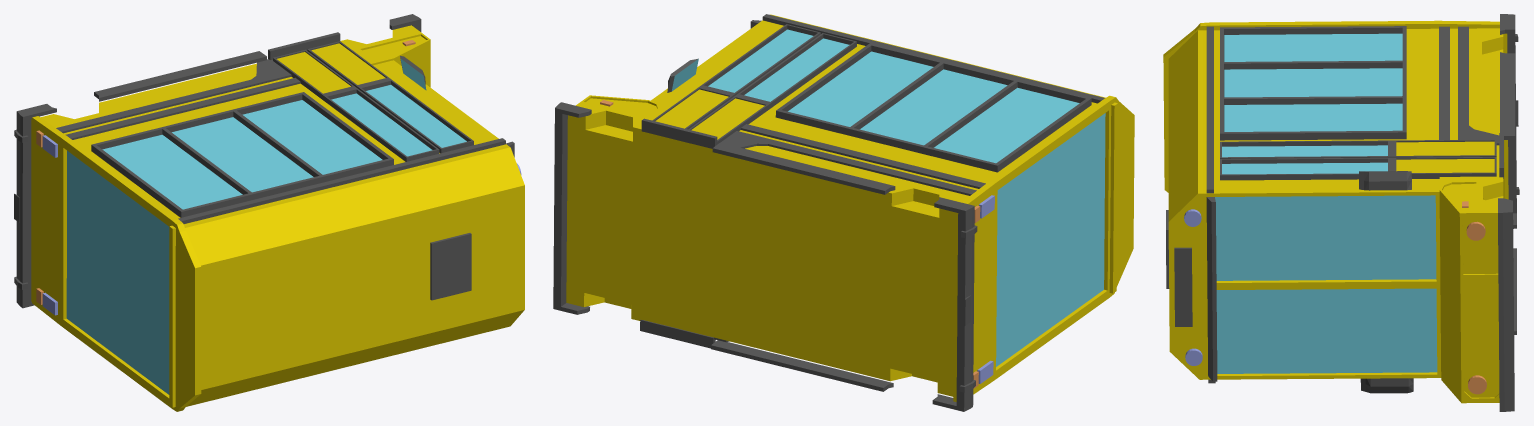
Rendered from chassis.glb.
3 renders of one model, left to right at view 1: azimuth 30°, elevation 25°; view 2: azimuth 150°, elevation 25°; view 3: azimuth 270°, elevation 25°, orthographic. The views are drawn at different scales.
Visible parts, largest first — view 1: shadeYellow_1, shadeBlue_2, shadeBlack_3, shadeGray_4; view 2: shadeYellow_1, shadeBlue_2, shadeBlack_3; view 3: shadeBlue_2, shadeYellow_1, shadeBlack_3, shadeRed_0, shadeGray_4.
Part boxes in pixels (<box>): shadeYellow_1: <box>31,25,524,411</box>; shadeBlue_2: <box>66,59,466,394</box>; shadeBlack_3: <box>14,14,514,308</box>; shadeGray_4: <box>42,135,521,315</box>; shadeYellow_1: <box>566,14,1134,401</box>; shadeBlue_2: <box>671,29,1105,366</box>; shadeBlack_3: <box>553,14,1104,411</box>; shadeBlue_2: <box>1215,33,1437,373</box>; shadeYellow_1: <box>1163,20,1508,403</box>; shadeBlack_3: <box>1166,14,1519,411</box>; shadeRed_0: <box>1462,201,1486,394</box>; shadeGray_4: <box>1184,209,1202,365</box>.
Size of the model in its own units: 1.94 by 0.9882 by 1.44.
